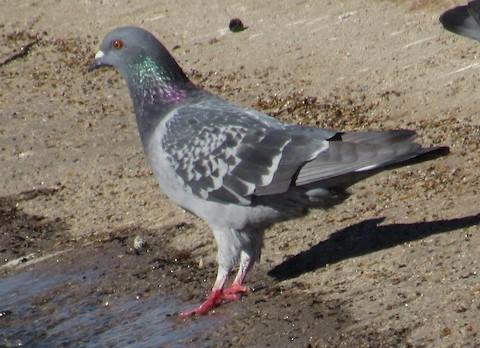pigeon: (80, 21, 452, 323)
